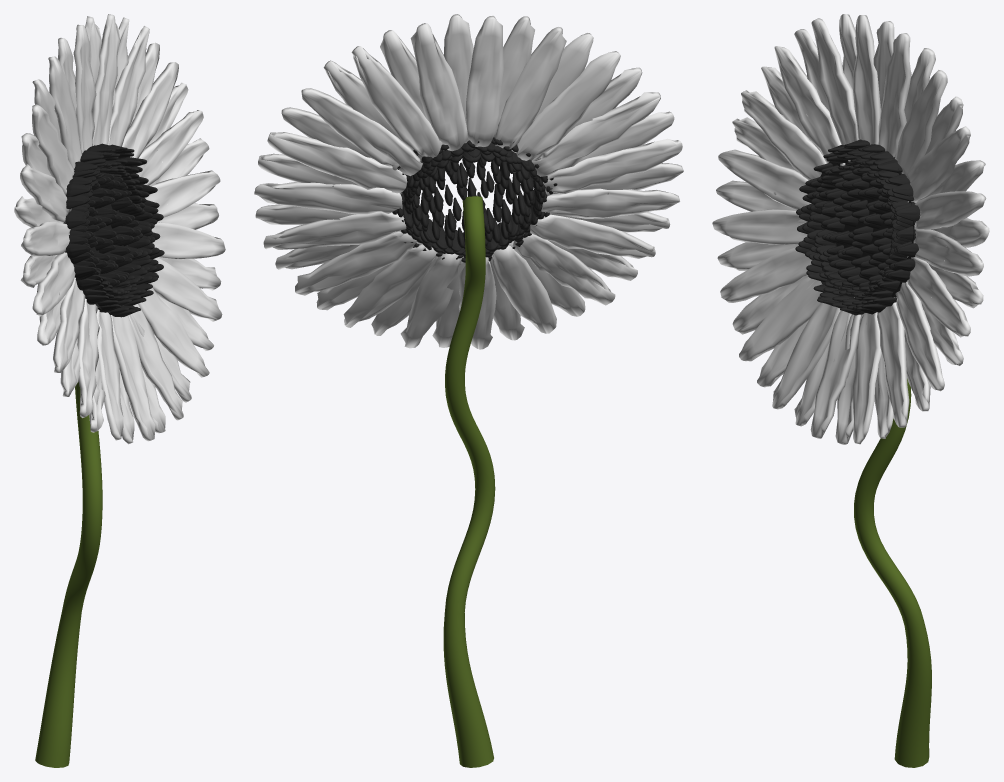
Rendered from SunFlower (1).fbx.
3 renders of one model, left to right at view 1: azimuth 30°, elevation 25°; view 2: azimuth 150°, elevation 25°; view 3: azimuth 270°, elevation 25°, orthographic.
Parts seen in each view (by area): view 1: ZiedoLapai 2.001, ZiedoLapai 1.001, Kotelis.001; view 2: ZiedoLapai 1.001, ZiedoLapai 2.001, Kotelis.001; view 3: ZiedoLapai 2.001, ZiedoLapai 1.001, Kotelis.001, ZiedasV2PoSubdiv.002.
Part boxes in pixels (left/top/right/bottom): ZiedoLapai 2.001: left=20, top=14, right=225, bottom=441; ZiedoLapai 1.001: left=14, top=16, right=221, bottom=444; Kotelis.001: left=35, top=381, right=102, bottom=767; ZiedoLapai 1.001: left=254, top=16, right=682, bottom=349; ZiedoLapai 2.001: left=255, top=14, right=683, bottom=347; Kotelis.001: left=443, top=196, right=495, bottom=767; ZiedoLapai 2.001: left=712, top=15, right=986, bottom=444; ZiedoLapai 1.001: left=716, top=14, right=989, bottom=444; Kotelis.001: left=854, top=378, right=931, bottom=767; ZiedasV2PoSubdiv.002: left=820, top=145, right=914, bottom=313.
Size of the model in its own units: 237 by 536 by 182.
